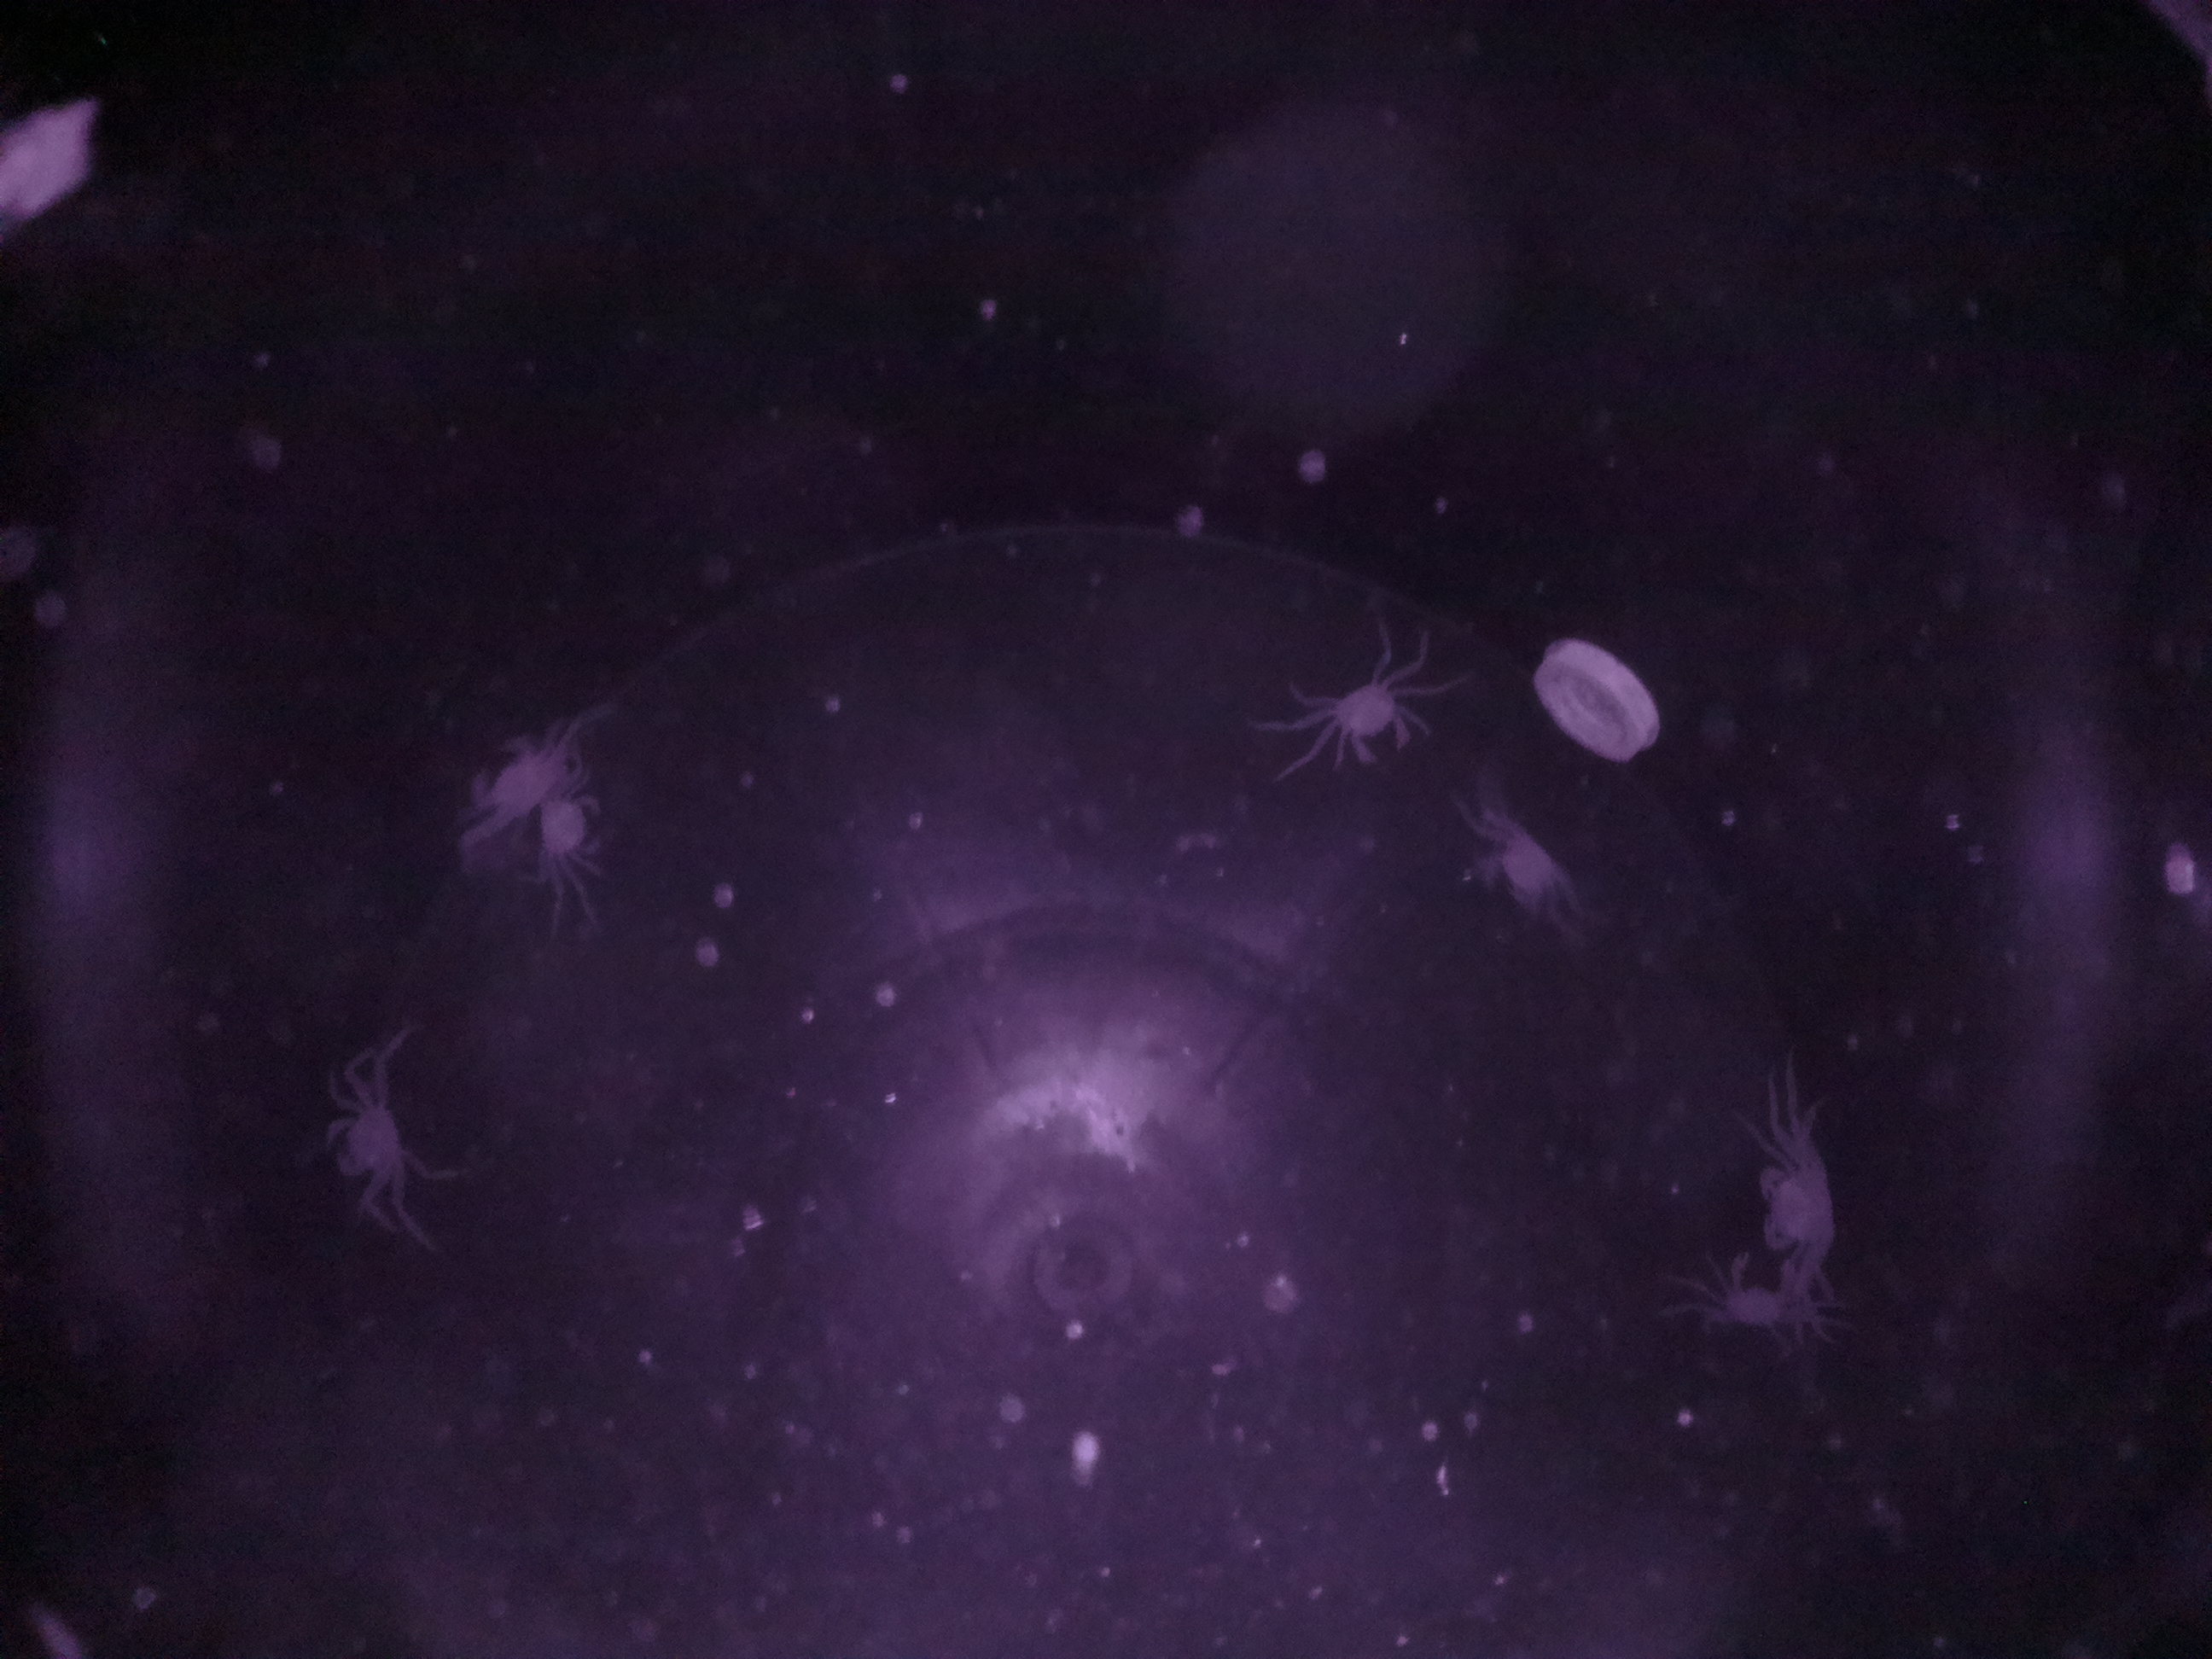Crab: (1731, 1136, 1865, 1277), (314, 1086, 435, 1197), (1318, 662, 1420, 782)
